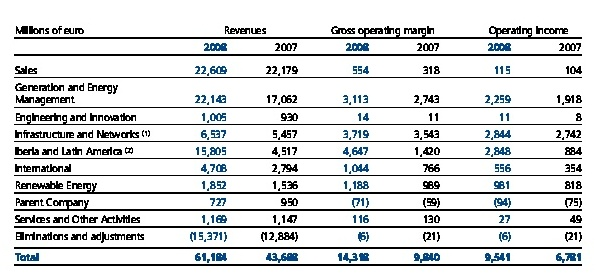table: (0, 0, 599, 280)
